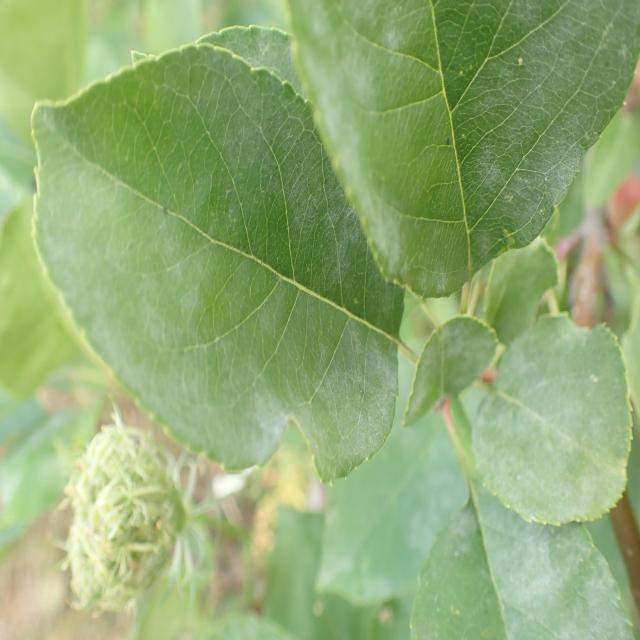Powdery_mildew: (38, 41, 389, 475), (318, 0, 622, 343), (457, 322, 628, 532)
